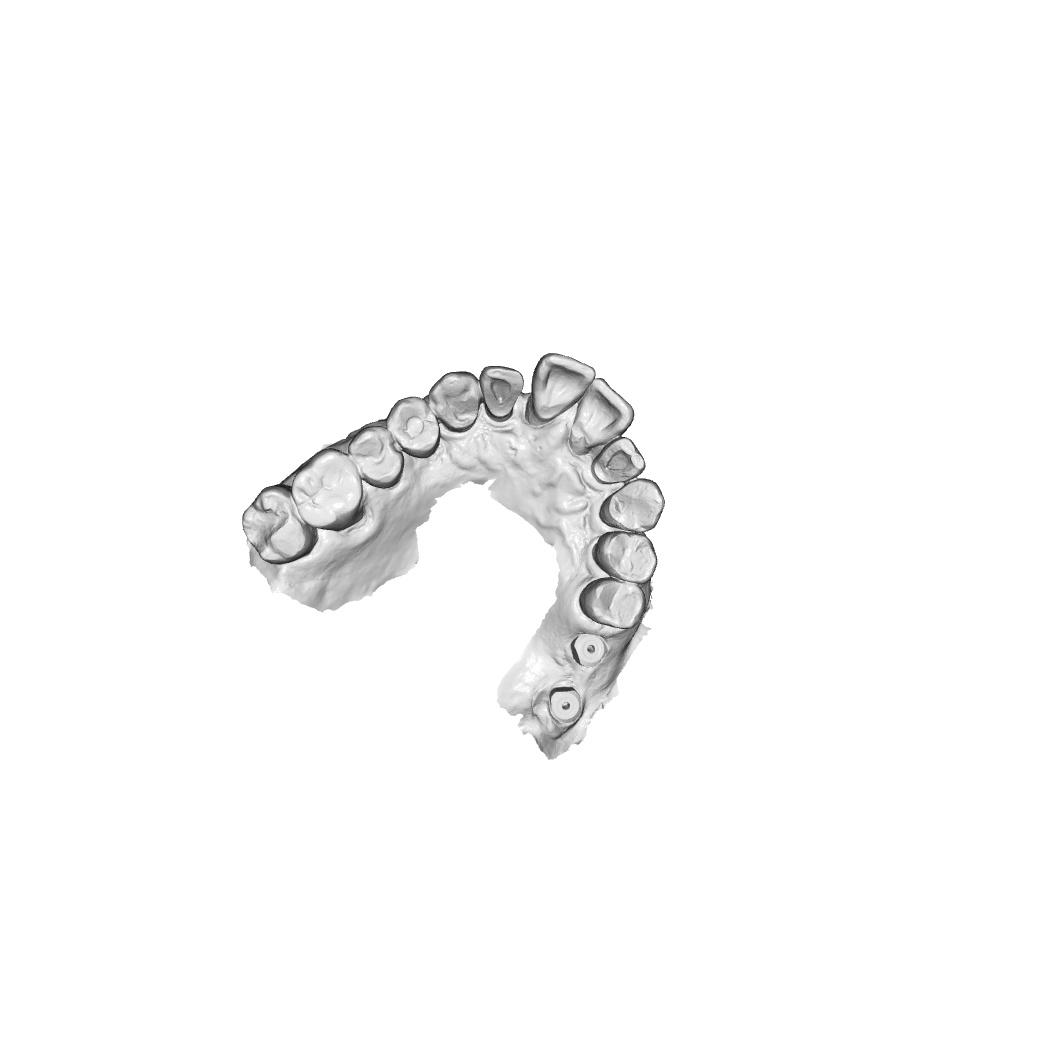canine: (598, 475, 666, 533), (427, 370, 481, 433)
implant: (569, 632, 608, 668), (548, 686, 583, 724)
incisor: (569, 377, 636, 455), (530, 351, 596, 422), (591, 435, 646, 486), (478, 363, 525, 421)
molar: (241, 483, 319, 566), (291, 447, 365, 532)
premolar: (579, 576, 647, 631), (347, 425, 405, 489), (591, 530, 659, 584), (385, 395, 441, 459)
